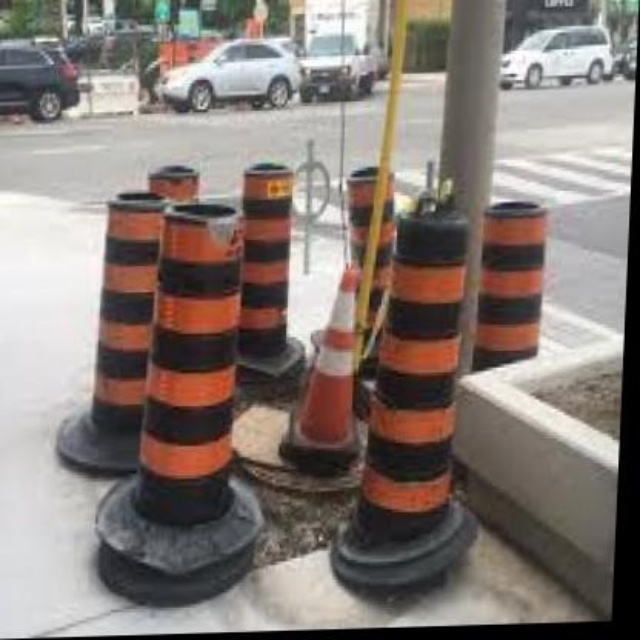obstacle: (147, 202, 250, 540), (376, 213, 474, 542)
